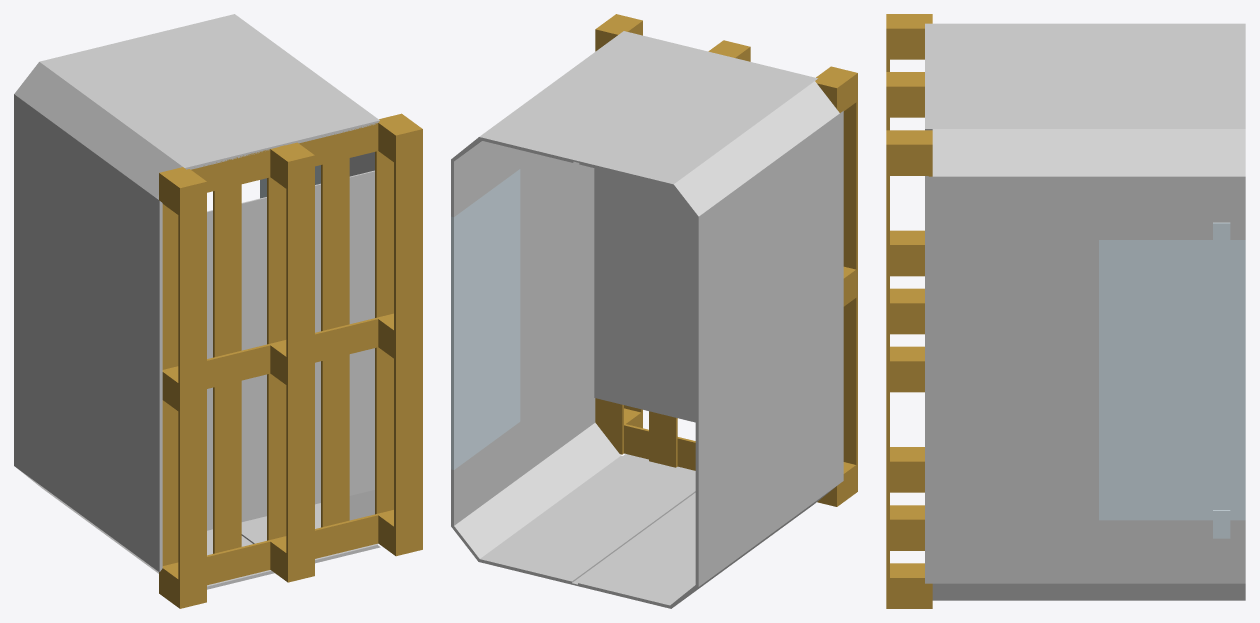
File: Initial.glb
The picture shows the model from 3 angles, left to right: view 1: azimuth 30°, elevation 25°; view 2: azimuth 150°, elevation 25°; view 3: azimuth 270°, elevation 25°; orthographic projection. The views are drawn at different scales.
Parts seen in each view (by area): view 1: Part 3, Part 2; view 2: Part 3, Part 1, Part 2; view 3: Part 3, Part 1, Part 2.
Boxes of the visible parts, x1,y1,x2,y2 form: Part 3: (14, 14, 380, 589); Part 2: (159, 113, 422, 608); Part 3: (451, 31, 843, 608); Part 1: (451, 169, 520, 469); Part 2: (595, 14, 857, 506); Part 3: (925, 23, 1245, 600); Part 1: (1099, 222, 1245, 538); Part 2: (886, 14, 932, 608).
Size of the model in its own units: 0.825 by 1.34 by 0.93.
